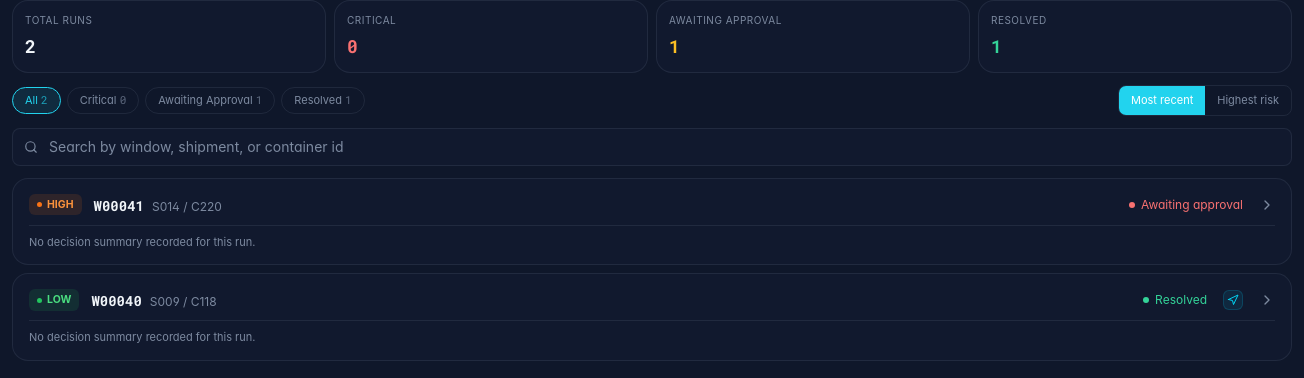
Test: AgentRunList › filters rows by the Awaiting Approval chip
Click the button "Awaiting Approval 1". click: (210, 100)
box: [145,87,275,114]
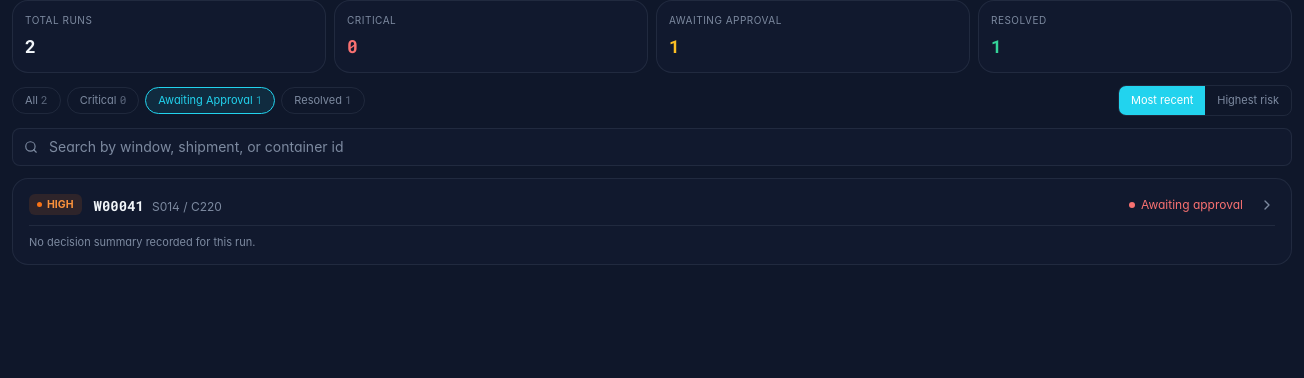
Expected: the text "W00041" is shown, [94,196,144,214]
Expected: the button "W00040" is gone
